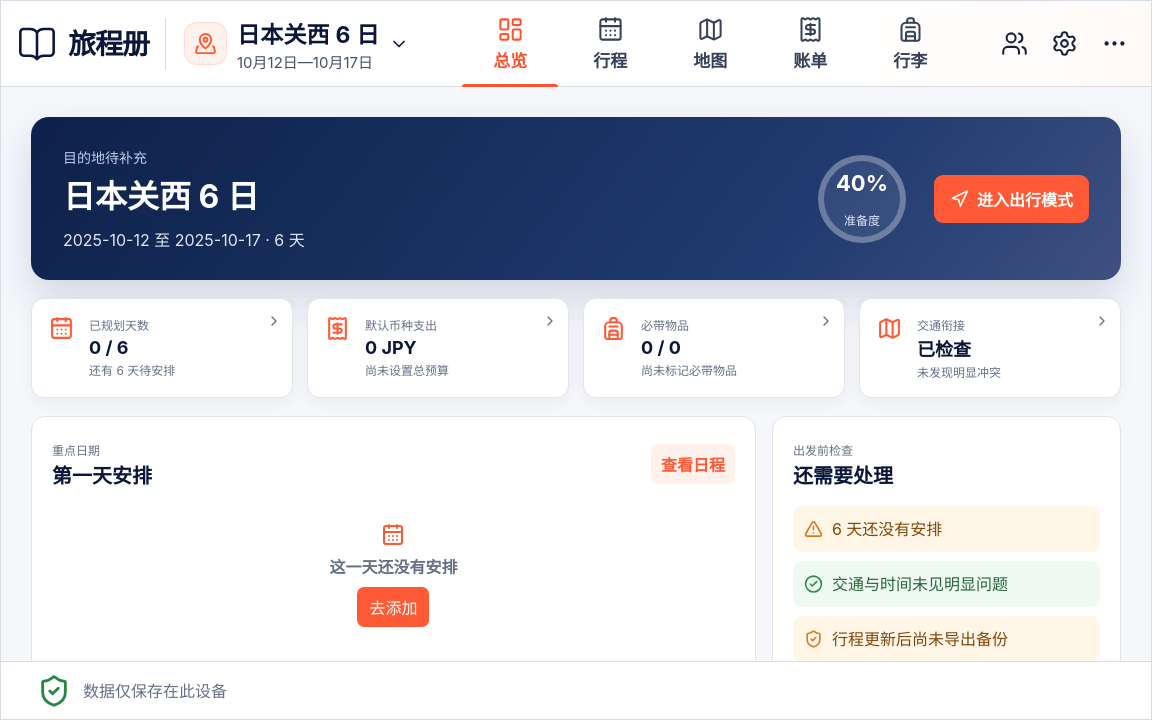
Test case: App › opens trip editing and deletion as a single top-level dialog
Click the button named "管理行程".
click(1064, 44)  # box [1043,22,1085,64]
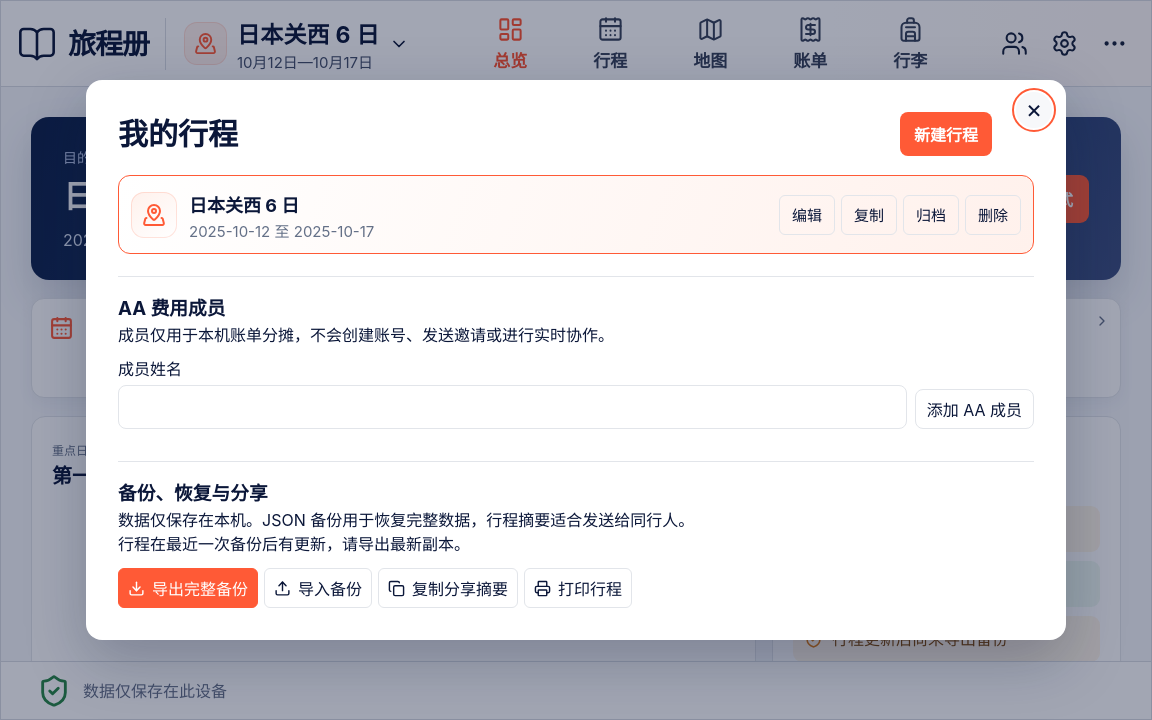
Click the button "编辑".
click(807, 214)  # box [779,194,835,234]
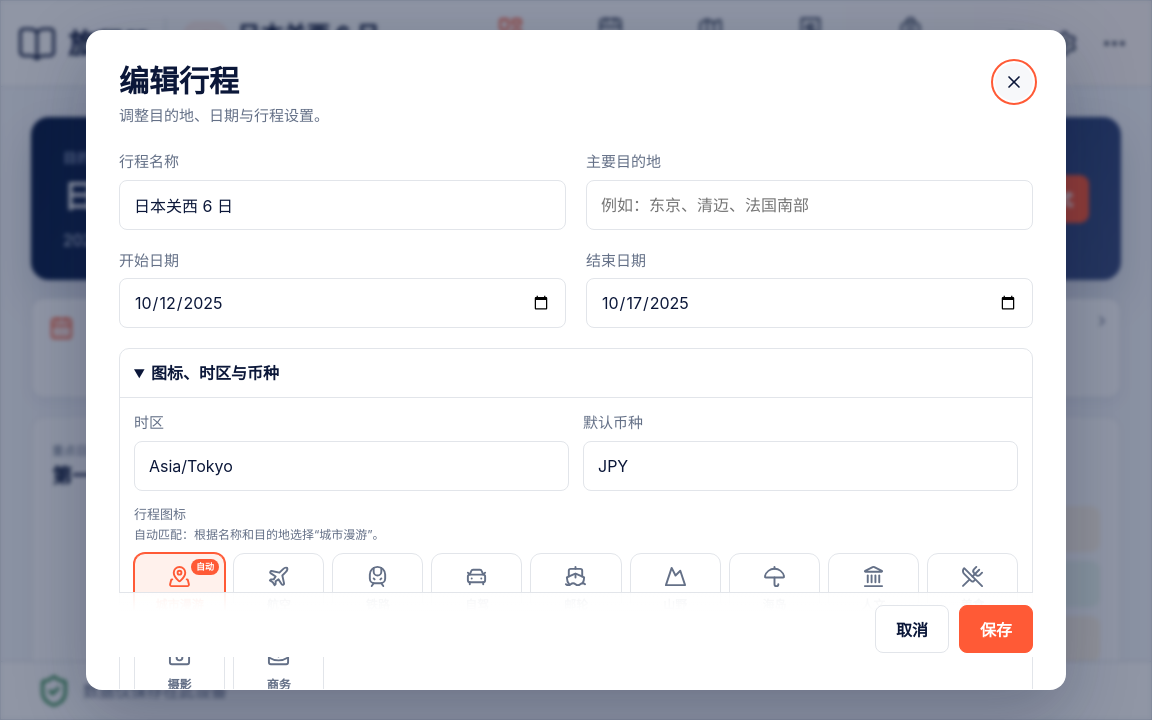
Now the dialog "编辑行程" is shown
Now the heading "我的行程" is gone
Click the button "取消".
click(912, 629)  # box [875,605,949,653]
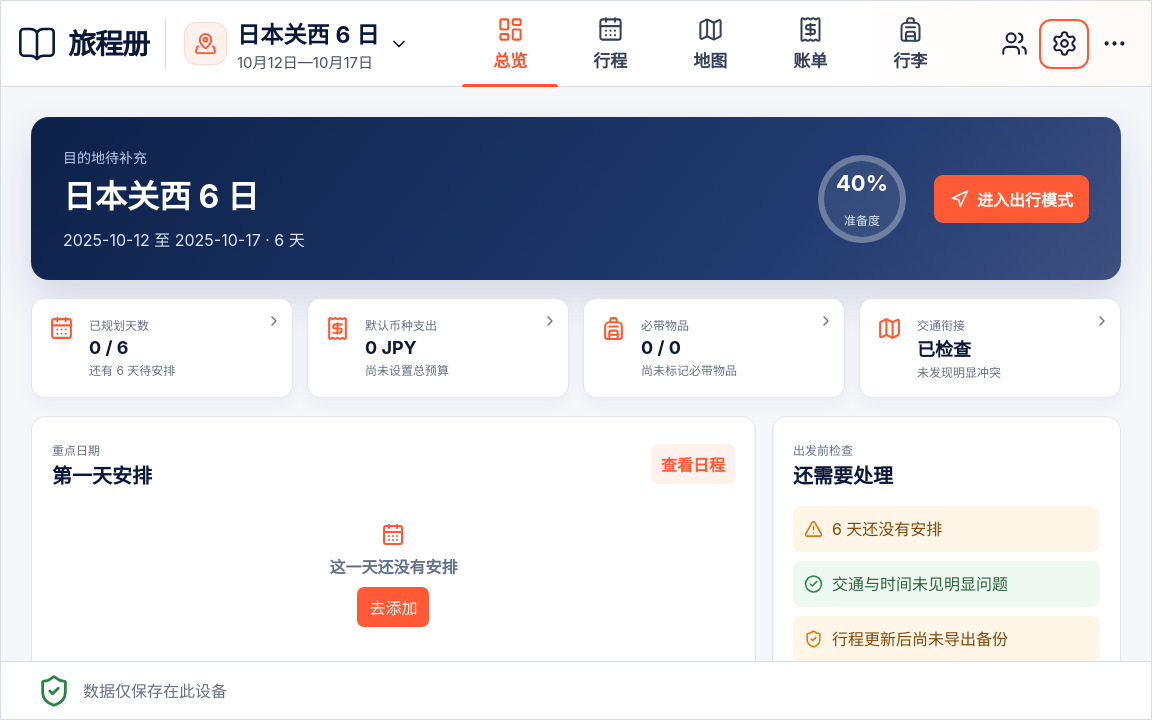
Click the button named "管理行程".
click(1064, 44)  # box [1043,22,1085,64]
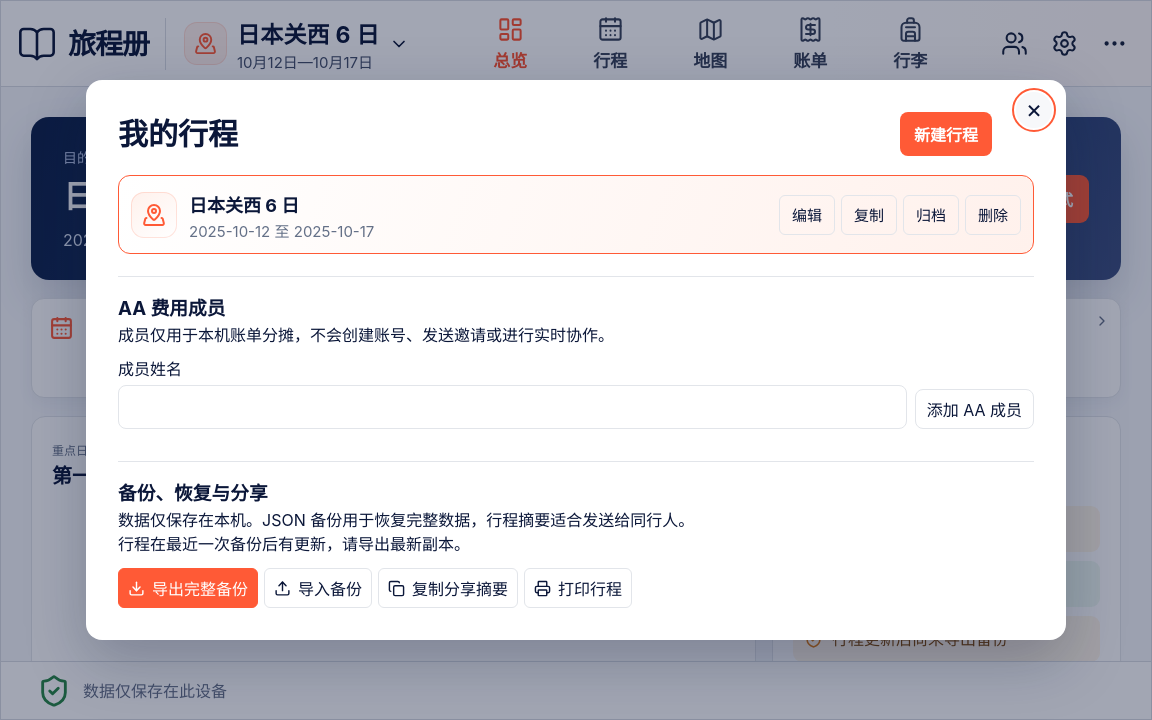
Click the button "删除".
click(993, 214)  # box [965,194,1021,234]
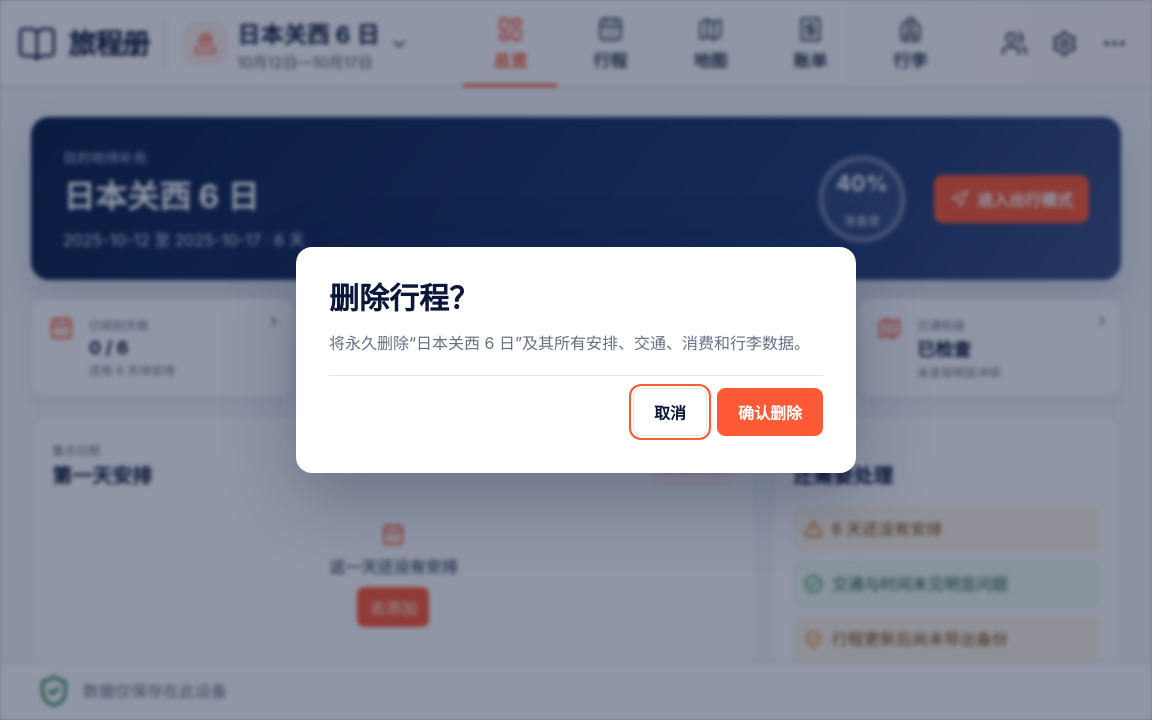
Now the dialog "删除行程？" is shown
Now the heading "我的行程" is gone
